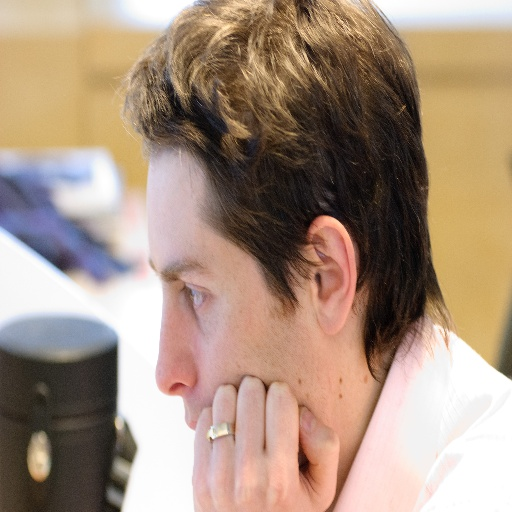hand: (177, 385, 363, 505)
